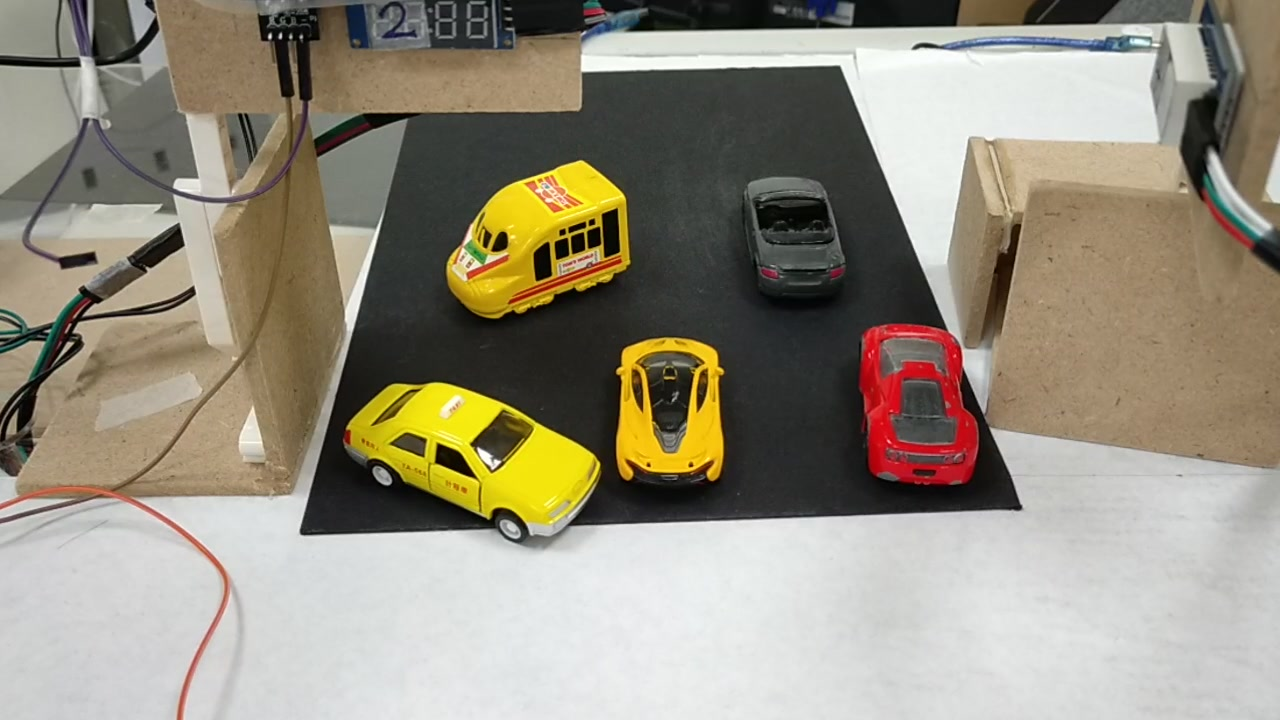car: (344, 379, 594, 542), (865, 325, 975, 489), (618, 340, 728, 487), (747, 178, 845, 297)
